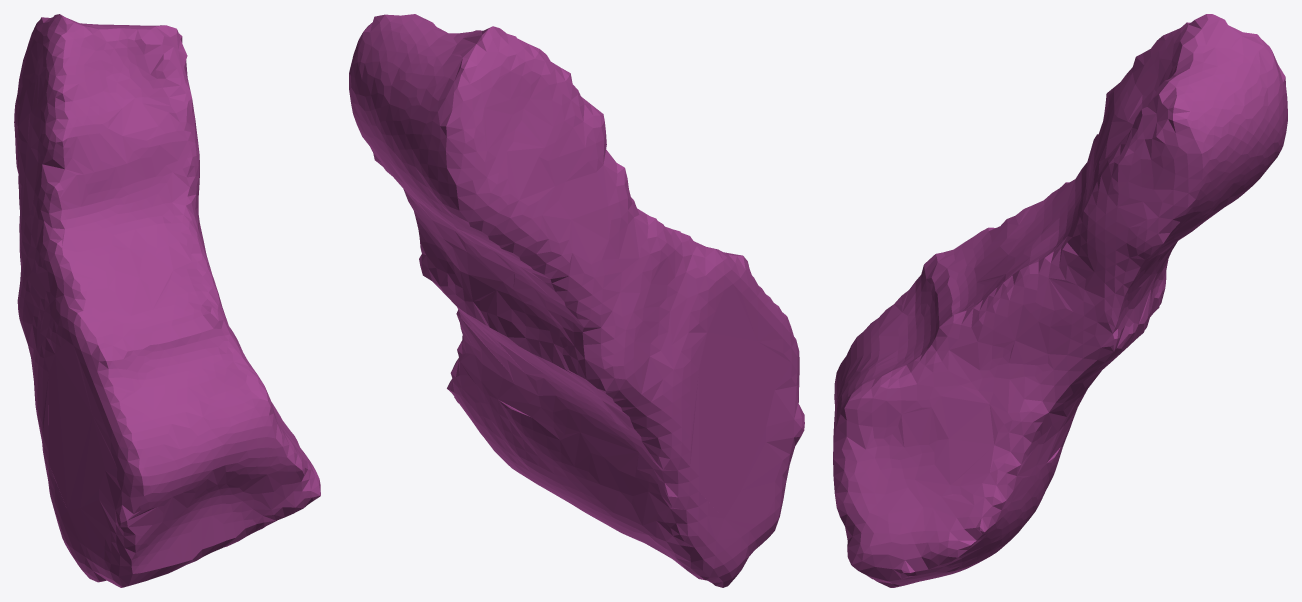
File: Model_10083_LH__Auditory_cortex__rostral_parabelt_(AuRPB).obj
3 views of the same model, side by side, from view 1: azimuth 30°, elevation 25°; view 2: azimuth 150°, elevation 25°; view 3: azimuth 270°, elevation 25° (orthographic). The views are drawn at different scales.
Bounding box in the file's own units: 1.99 × 4.17 × 3.01.
